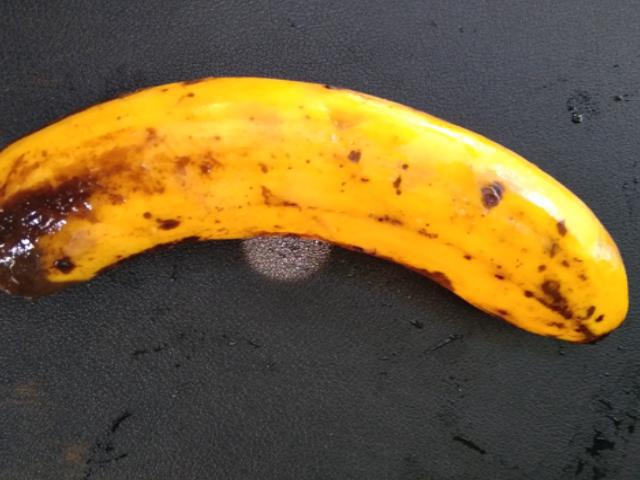overripe: (144, 49, 639, 370)
rotten: (0, 76, 189, 309)
